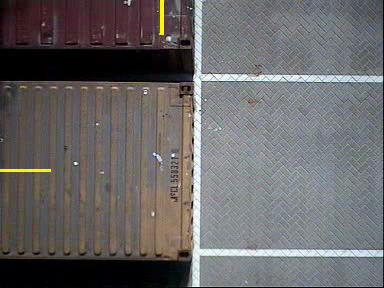groundmarker_2: (203, 219, 246, 288), (205, 59, 248, 127)
